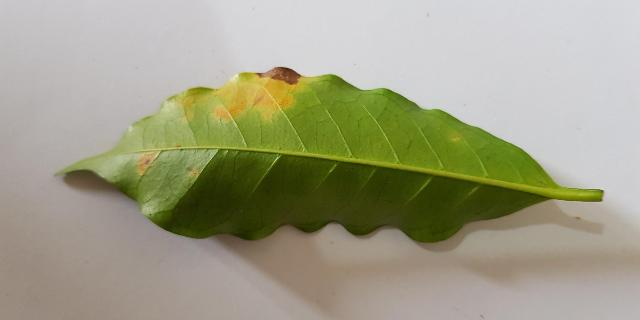miner: (212, 68, 311, 120), (178, 96, 206, 120), (138, 151, 157, 174)
